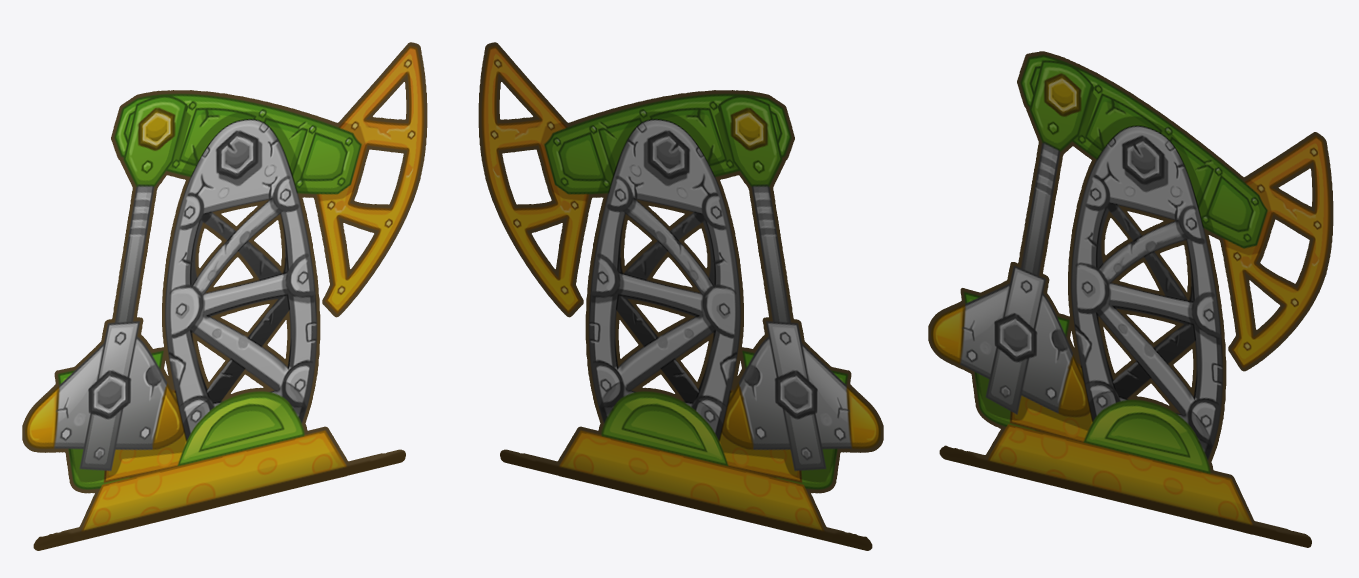
Rendered from Oil.FBX.
3 renders of one model, left to right at view 1: azimuth 30°, elevation 25°; view 2: azimuth 150°, elevation 25°; view 3: azimuth 330°, elevation 25°, orthographic.
Parts seen in each view (by area): view 1: Plane002; view 2: Plane002; view 3: Plane002.
Part boxes in pixels (box(x1,y1,x2,y2)): Plane002: box(22, 42, 427, 550); Plane002: box(478, 42, 883, 550); Plane002: box(928, 51, 1333, 547).
Size of the model in its own units: 73.89 by 74.27 by 3.42e-06.
